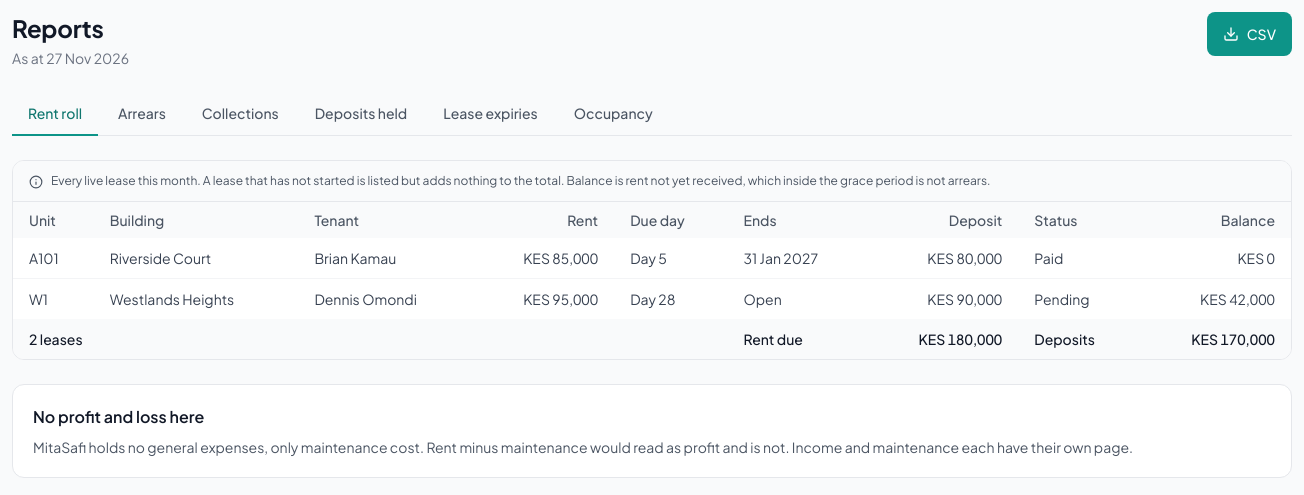
ReportsClient › keeps the lapsed-lease warning on expiries
What coordinates should you click on to do the following:
click the tab "Lease expiries"
I would click on:
 (490, 114)
Its box is [427,92,554,136].
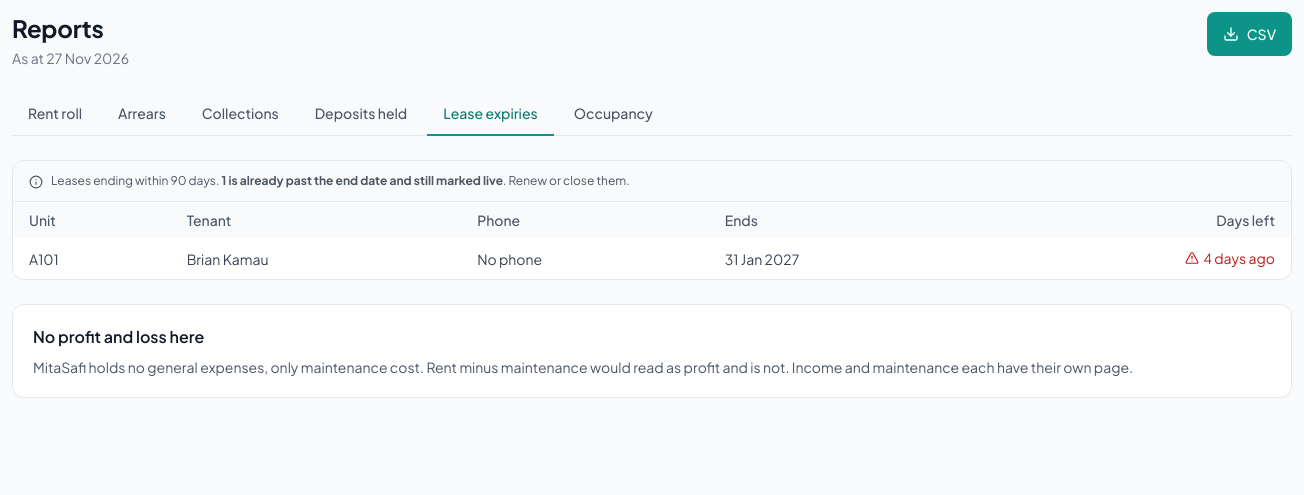
expect the text "1 is already past the end date and still marked live" is shown: met, box [221,173,503,188]
